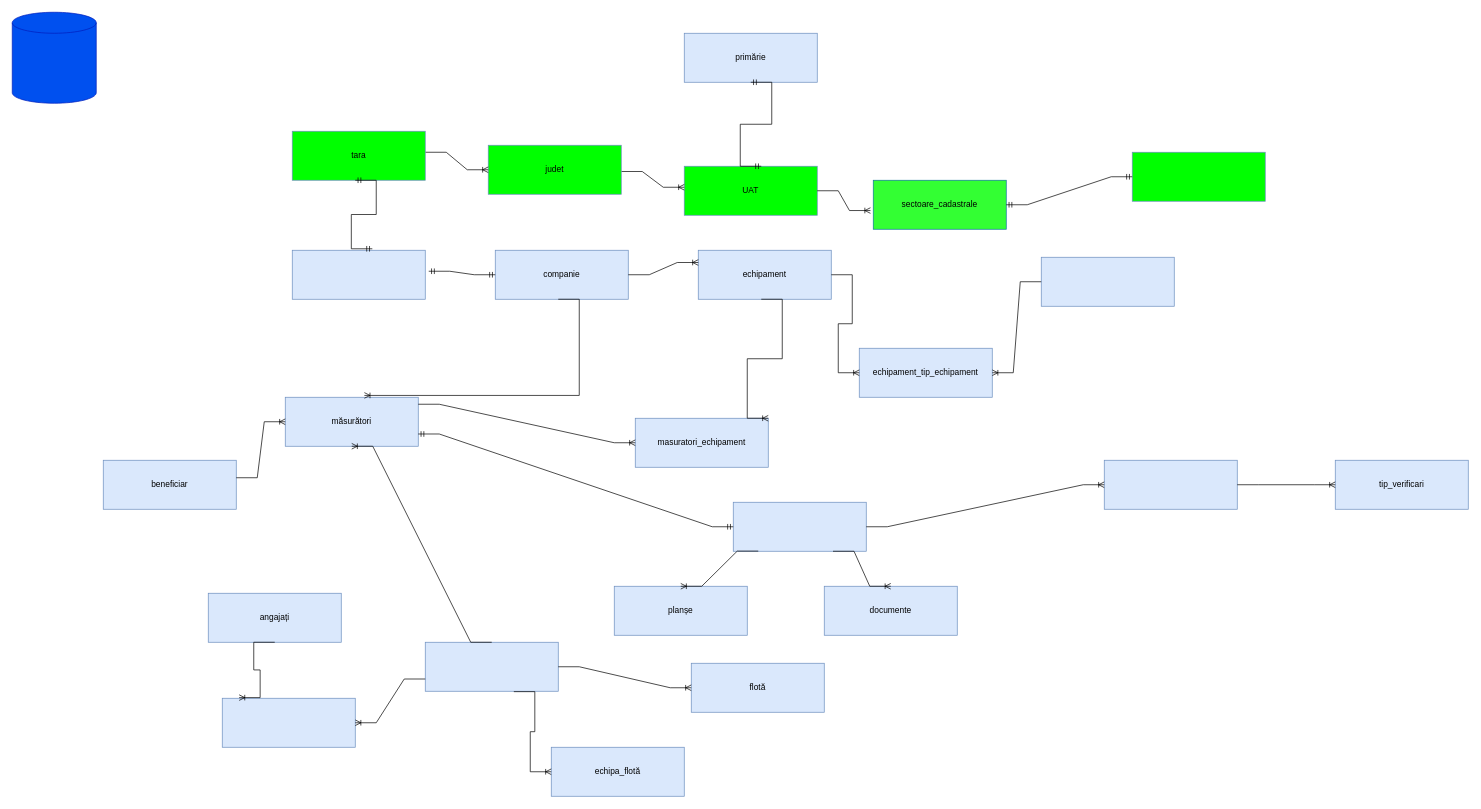
The diagram is 1481 pixels wide and 809 high, and some of its shapes have lost their labels. Here are the shapes that lost their labels. From the top down, the box of each, then its label:
(12, 12, 96, 103): Lucrari cadastru GIS
(1132, 152, 1265, 201): rețea_sprijin
(292, 250, 425, 299): ANAF
(1041, 257, 1174, 306): tip_echipament
(1104, 460, 1237, 509): verificari
(733, 502, 866, 551): dosar
(425, 642, 558, 691): echipă
(222, 698, 355, 747): angajati_echipa
